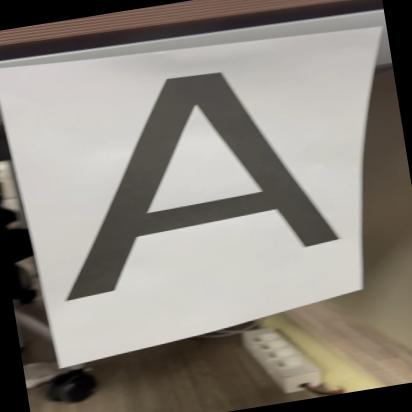seat: (18, 40, 365, 315)
